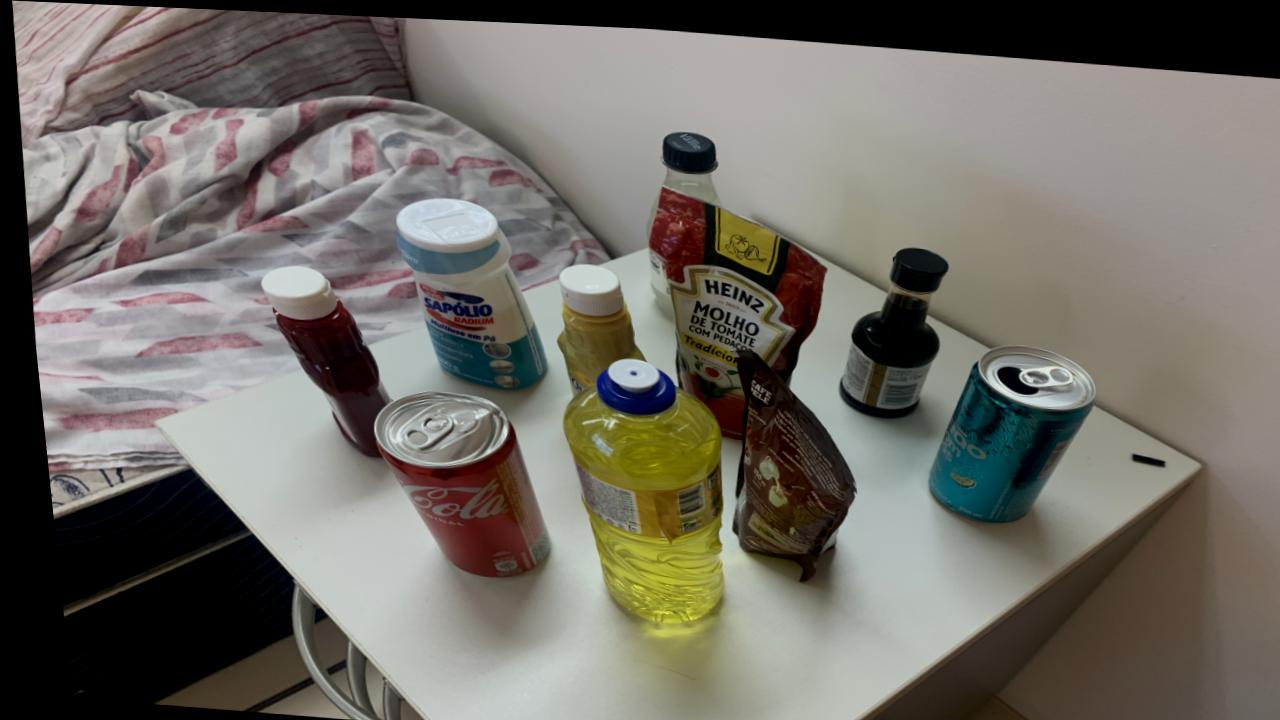Cleaner-Cleanup_Items: (392, 194, 539, 385)
Coffee-Pantry_Items: (723, 342, 847, 574)
Coke-Drinks: (364, 387, 540, 574)
Detergent-Cleanup_Items: (554, 353, 713, 617)
English_Sauce-Pantry_Items: (832, 239, 943, 410)
Ketchup-Pantry_Items: (255, 264, 380, 453)
Mustard-Pantry_Items: (550, 258, 638, 390)
Soda-Drinks: (660, 126, 718, 201), (646, 246, 668, 311), (642, 195, 654, 231)
Tea-Drinks: (920, 336, 1087, 513)
Tomato_Sauce-Pantry_Items: (644, 180, 821, 431)
